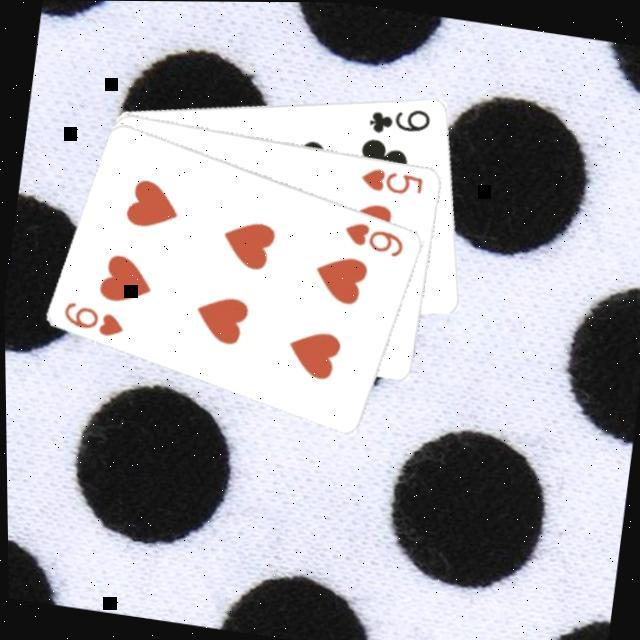5H: (354, 164, 424, 201)
6H: (337, 217, 408, 262), (55, 298, 126, 343)
9C: (361, 100, 434, 144)
